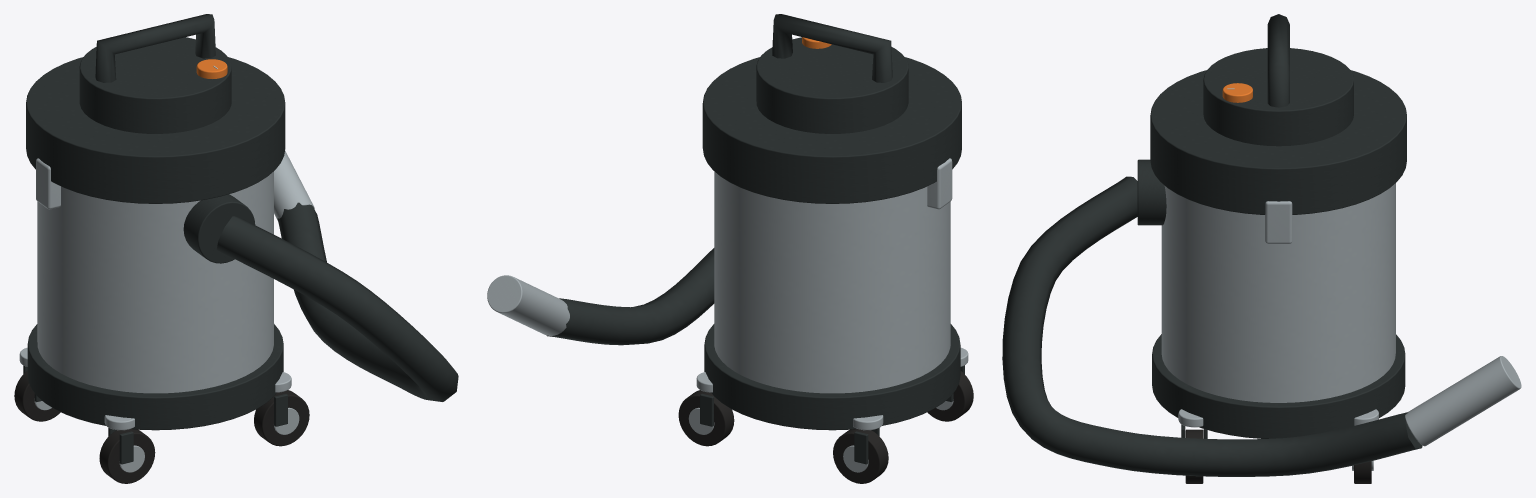
File: wet-dry-vacuum.glb
3 renders of one model, left to right at view 1: azimuth 30°, elevation 25°; view 2: azimuth 150°, elevation 25°; view 3: azimuth 270°, elevation 25°, orthographic.
Parts seen in each view (by area): view 1: Stainless collection tank, Motor lid, Flexible suction hose, Upper motor shroud, Tank lower bumper, Vacuum carry handle, Front hose coupling, Rubber caster wheel, Rubber caster wheel.002, Rigid hose nozzle, Rubber caster wheel.001, Lid latch (+1 smaller); view 2: Stainless collection tank, Motor lid, Upper motor shroud, Tank lower bumper, Flexible suction hose, Vacuum carry handle, Rigid hose nozzle, Rubber caster wheel.001, Rubber caster wheel.003, Rubber caster wheel, Lid latch; view 3: Stainless collection tank, Flexible suction hose, Motor lid, Upper motor shroud, Tank lower bumper, Rigid hose nozzle, Vacuum carry handle, Front hose coupling, Lid latch.001.
Part boxes in pixels (left/top/right/bottom): Stainless collection tank: left=37, top=171, right=273, bottom=393; Motor lid: left=26, top=57, right=285, bottom=203; Flexible suction hose: left=216, top=202, right=458, bottom=401; Upper motor shroud: left=79, top=37, right=231, bottom=133; Tank lower bumper: left=27, top=324, right=283, bottom=430; Vacuum carry handle: left=95, top=14, right=215, bottom=82; Front hose coupling: left=183, top=194, right=255, bottom=263; Rubber caster wheel: left=99, top=429, right=155, bottom=483; Rubber caster wheel.002: left=254, top=390, right=309, bottom=446; Rigid hose nozzle: left=274, top=150, right=314, bottom=220; Rubber caster wheel.001: left=14, top=371, right=60, bottom=421; Lid latch: left=36, top=158, right=60, bottom=209; Stainless collection tank: left=714, top=171, right=950, bottom=393; Motor lid: left=702, top=57, right=961, bottom=203; Upper motor shroud: left=756, top=37, right=908, bottom=133; Tank lower bumper: left=704, top=324, right=960, bottom=430; Flexible suction hose: left=546, top=248, right=714, bottom=345; Vacuum carry handle: left=772, top=14, right=892, bottom=82; Rigid hose nozzle: left=487, top=275, right=569, bottom=335; Rubber caster wheel.001: left=833, top=429, right=888, bottom=483; Rubber caster wheel.003: left=678, top=390, right=734, bottom=446; Rubber caster wheel: left=927, top=371, right=973, bottom=421; Lid latch: left=927, top=158, right=952, bottom=209; Stainless collection tank: left=1161, top=183, right=1395, bottom=402; Flexible suction hose: left=1002, top=176, right=1422, bottom=476; Motor lid: left=1150, top=70, right=1406, bottom=214; Upper motor shroud: left=1203, top=48, right=1353, bottom=146; Tank lower bumper: left=1152, top=334, right=1405, bottom=438; Rigid hose nozzle: left=1405, top=356, right=1521, bottom=446; Vacuum carry handle: left=1267, top=14, right=1289, bottom=107; Front hose coupling: left=1137, top=159, right=1166, bottom=225; Lid latch.001: left=1265, top=201, right=1292, bottom=243.
Bounding box in the file's own units: 0.4865 × 0.5499 × 0.6472.
5 materials, 5 textured.
